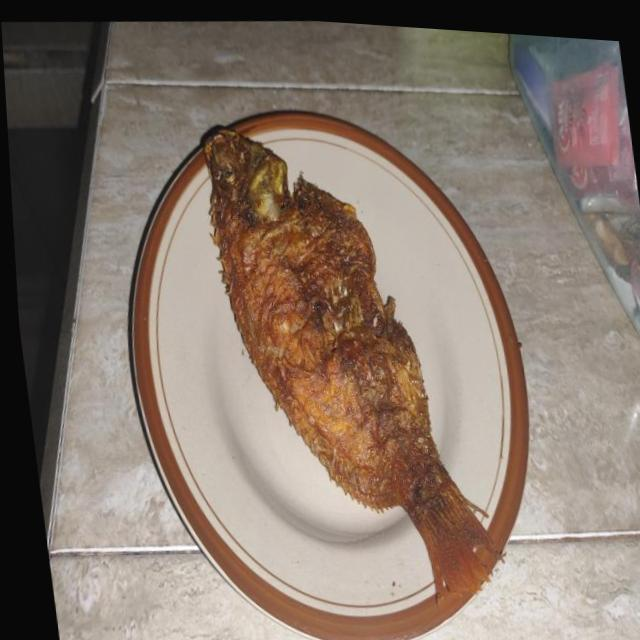ikan_mujair: (200, 126, 501, 601)
